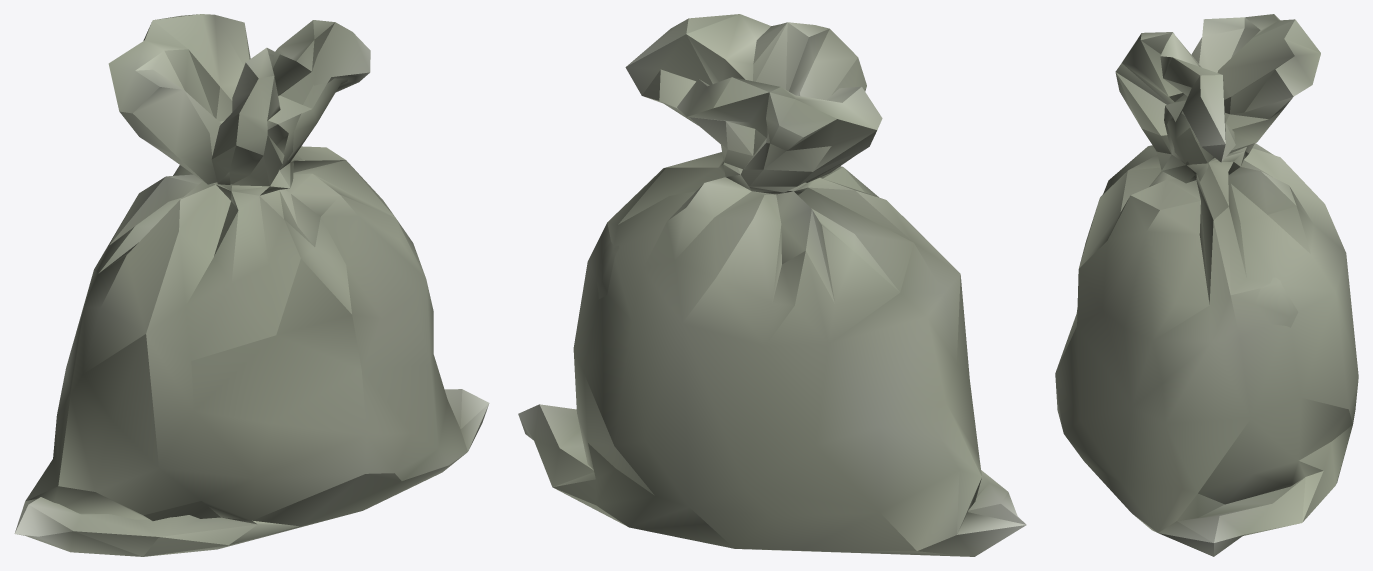
Rendered from Sack01.fbx.
The picture shows the model from 3 angles, left to right: view 1: azimuth 30°, elevation 25°; view 2: azimuth 150°, elevation 25°; view 3: azimuth 270°, elevation 25°; orthographic projection. The views are drawn at different scales.
Visible parts, largest first — view 1: Sack01; view 2: Sack01; view 3: Sack01.
Boxes of the visible parts, bbox=[...] form: Sack01: bbox=[14, 14, 489, 556]; Sack01: bbox=[518, 14, 1026, 556]; Sack01: bbox=[1055, 14, 1358, 556].
Size of the model in its own units: 88.05 by 78.93 by 51.
